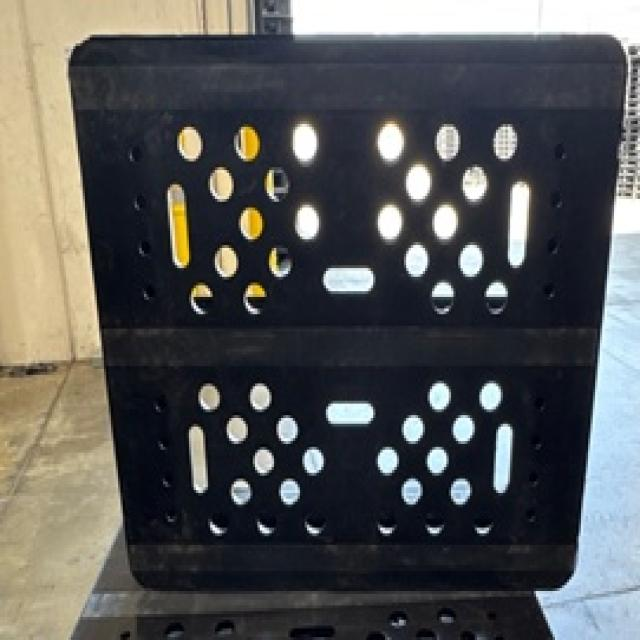igps: (63, 26, 631, 600)
